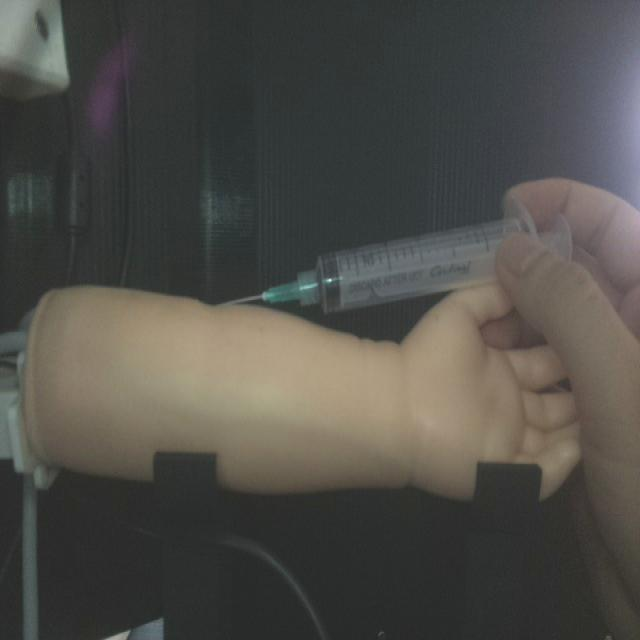Below 15 degrees: (217, 199, 570, 317)
